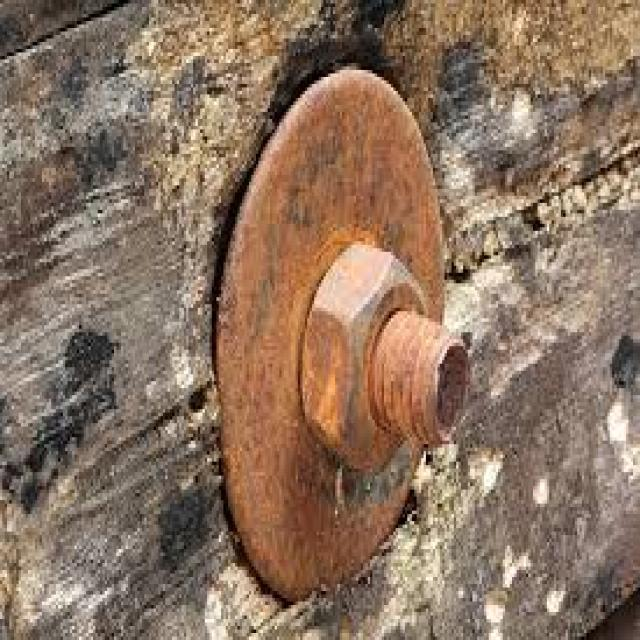Rusty bolt: (303, 242, 437, 481)
